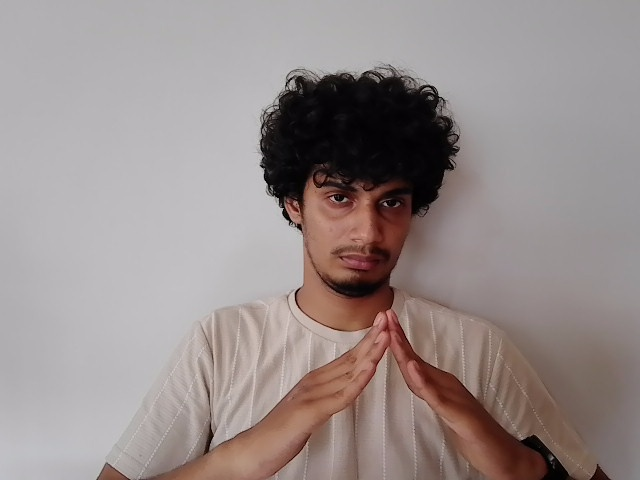home: (260, 306, 527, 468)
